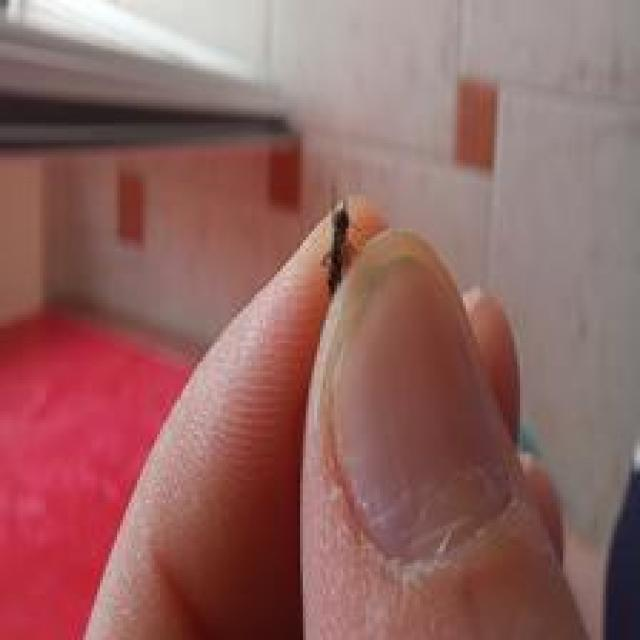Aedes albopictus: (318, 197, 353, 297)
